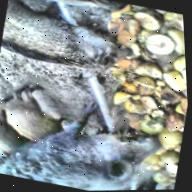boar: (7, 93, 183, 192), (0, 0, 143, 108)
